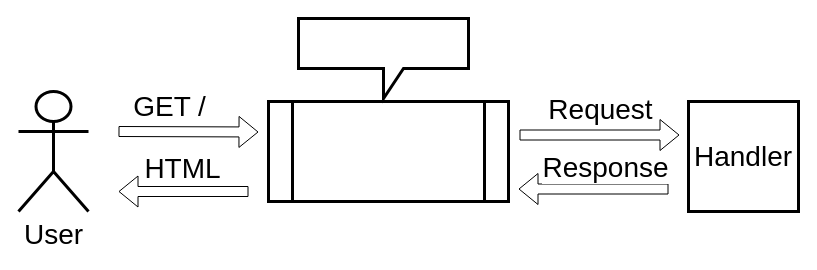
Some shapes in this 817 by 270 pixel diagram are drawn without their labels. Each missing label, with the centre of its shape:
"Http thread" belongs at point 388,151.
"Tomcat Pool" belongs at point 383,58.
